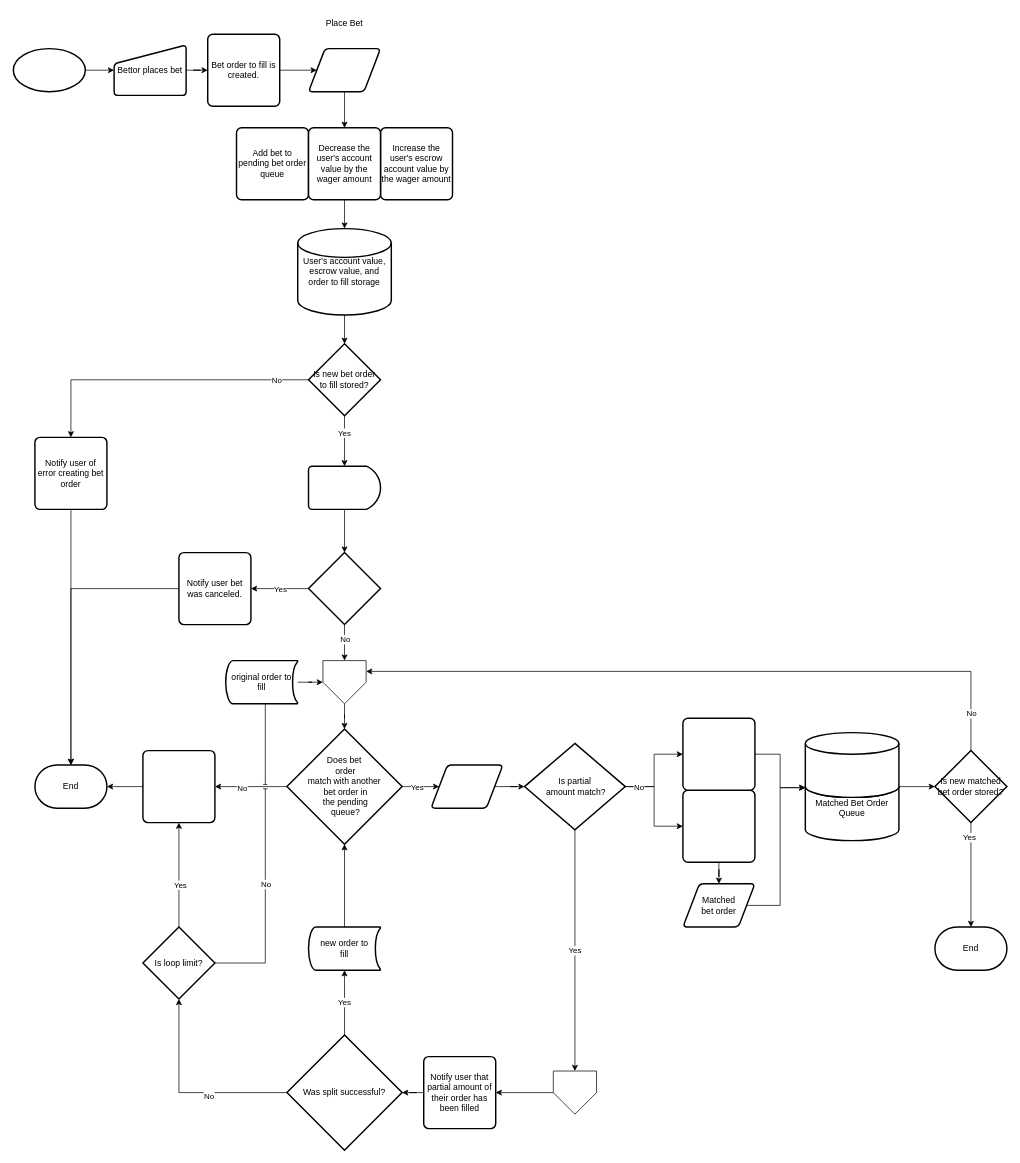
The diagram is 1020 pixels wide and 1163 high, and some of its shapes have lost their labels. The box of each missing label's shape, as (x1, y1, x2, y2) in pixels:
Create matched bet and add to matched queue: (682, 789, 755, 863)
Delay matching for 60 seconds: (307, 465, 381, 510)
Did user cancel order?: (307, 552, 381, 625)
Match order to fill: (322, 660, 366, 704)
Matched order to fill: (430, 764, 503, 809)
Notify user bet is waiting to be matched: (142, 750, 215, 823)
order to fill: (307, 48, 381, 92)
Pending Bet Order Queue: (804, 732, 899, 798)
Remove matched order to fill from pending queue: (682, 717, 755, 791)
Split Order: (553, 1070, 597, 1114)
Start: (12, 48, 86, 92)
